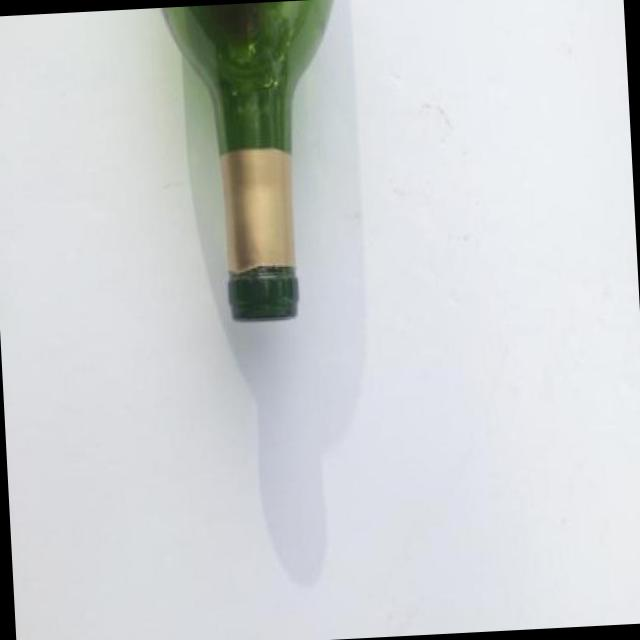BotolKaca: (156, 0, 356, 329)
